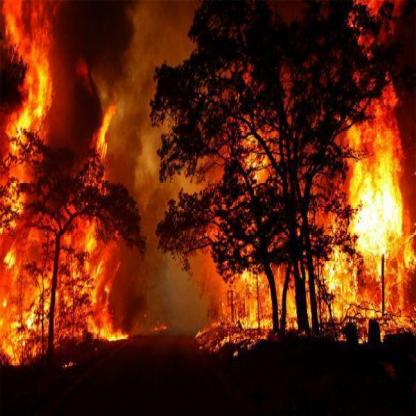fire: (2, 2, 52, 350), (350, 79, 412, 327), (207, 267, 346, 333), (66, 213, 125, 345), (91, 101, 116, 176)
